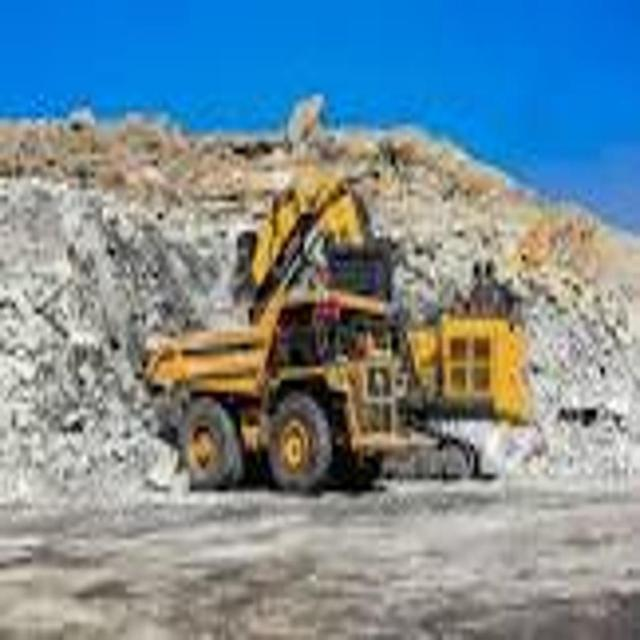dump_truck: (136, 268, 398, 521)
